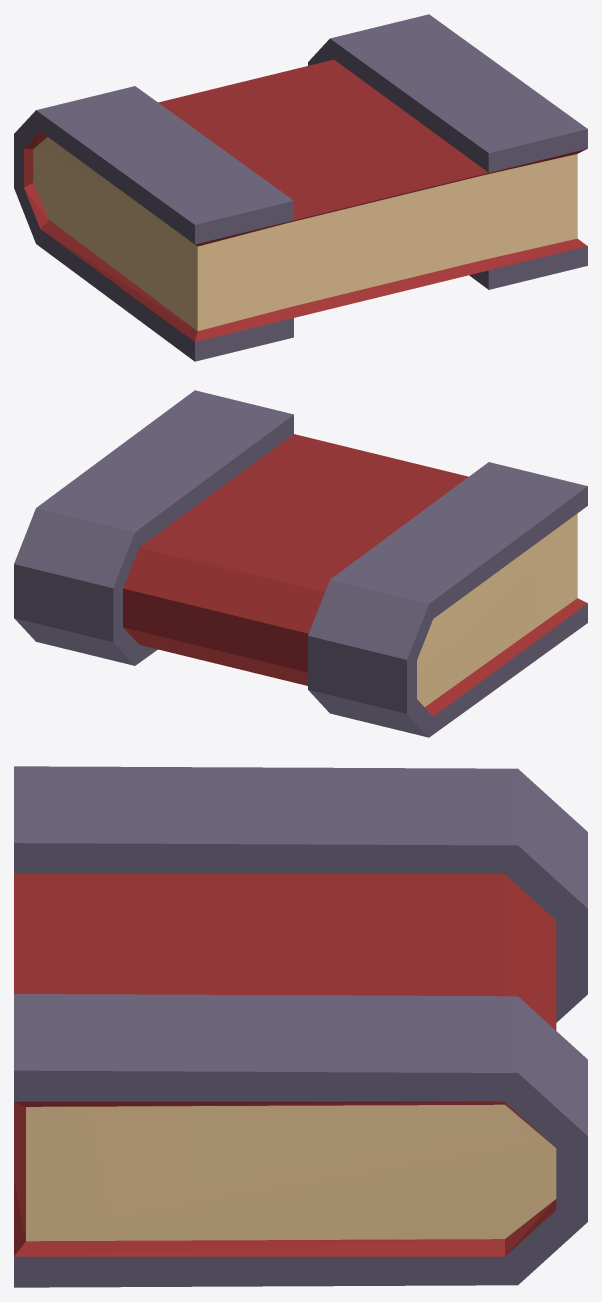
Rendered from Book2.FBX.
The picture shows the model from 3 angles, top to bottom: view 1: azimuth 30°, elevation 25°; view 2: azimuth 150°, elevation 25°; view 3: azimuth 270°, elevation 25°; orthographic projection. The views are drawn at different scales.
Parts seen in each view (by area): view 1: Book2; view 2: Book2; view 3: Book2.
Part boxes in pixels (box(x1,y1,x2,y2)): Book2: box(14, 14, 587, 361); Book2: box(14, 390, 587, 737); Book2: box(14, 766, 587, 1287).
Size of the model in its own units: 0.4206 by 0.1398 by 0.3353.
